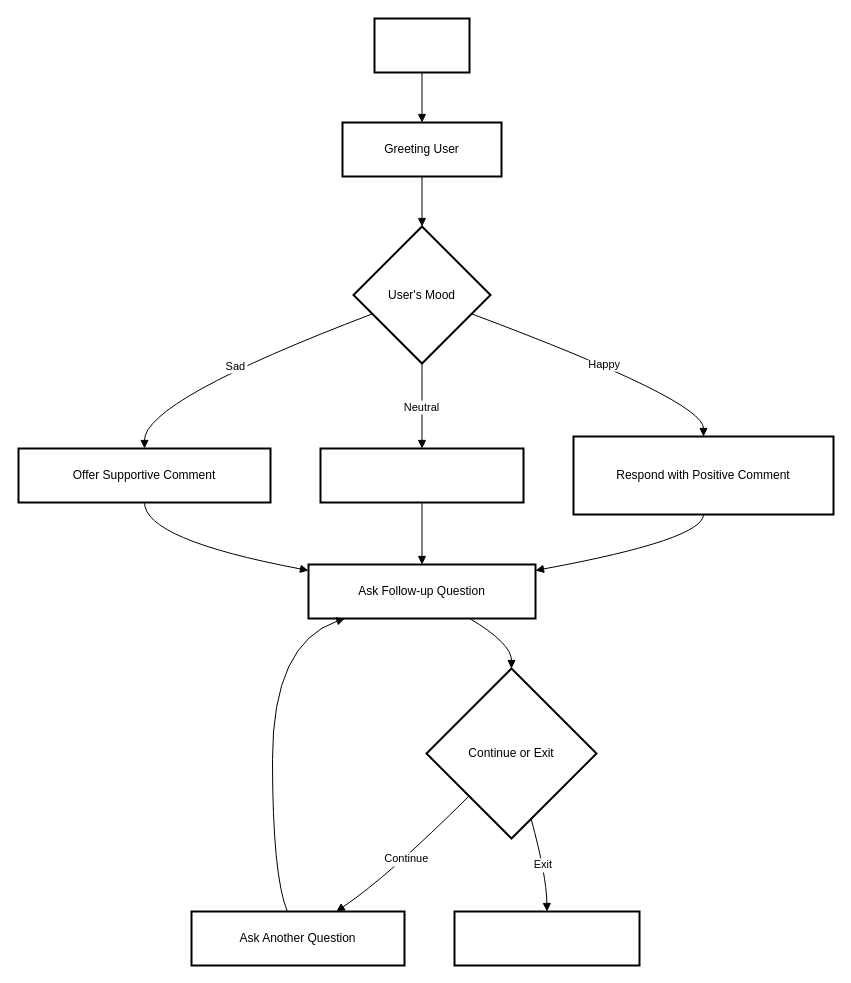
The diagram is 851 pixels wide and 983 high, and some of its shapes have lost their labels. Here are the shapes that lost their labels. From the top down, the centre of each, then its label:
At (x=421, y=45): "Start".
At (x=421, y=475): "Ask About Their Day".
At (x=546, y=938): "Goodbye Message".
